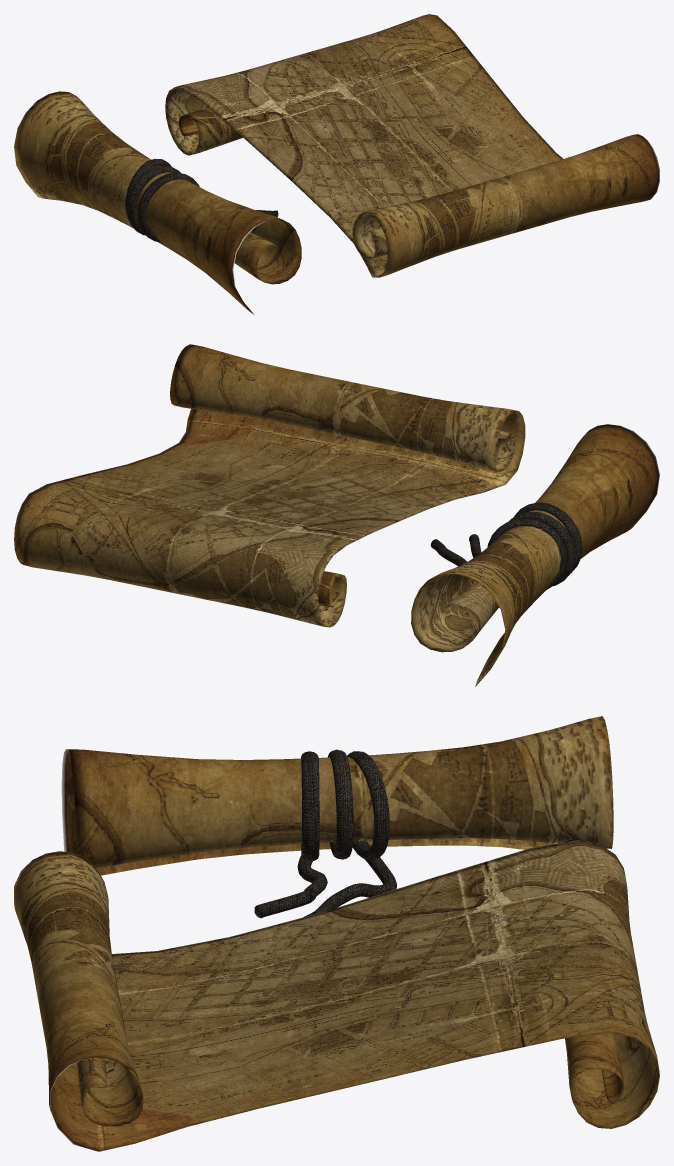
Rendered from map.dae.
3 renders of one model, top to bottom at view 1: azimuth 30°, elevation 25°; view 2: azimuth 150°, elevation 25°; view 3: azimuth 270°, elevation 25°, orthographic. The views are drawn at different scales.
Parts seen in each view (by area): view 1: _2, _3, _; view 2: _2, _3, _; view 3: _2, _3, _.
Part boxes in pixels (x1=…): _2: x1=165, y1=14, x2=659, y2=277; _3: x1=14, y1=91, x2=301, y2=314; _: x1=125, y1=159, x2=278, y2=242; _2: x1=14, y1=344, x2=525, y2=627; _3: x1=411, y1=424, x2=659, y2=686; _: x1=430, y1=502, x2=582, y2=590; _2: x1=14, y1=840, x2=659, y2=1151; _3: x1=61, y1=716, x2=613, y2=875; _: x1=254, y1=749, x2=396, y2=918.
Bounding box in the file's own units: 3.6 × 2.93 × 0.7449.
Materials: 2 (2 with a texture image).
